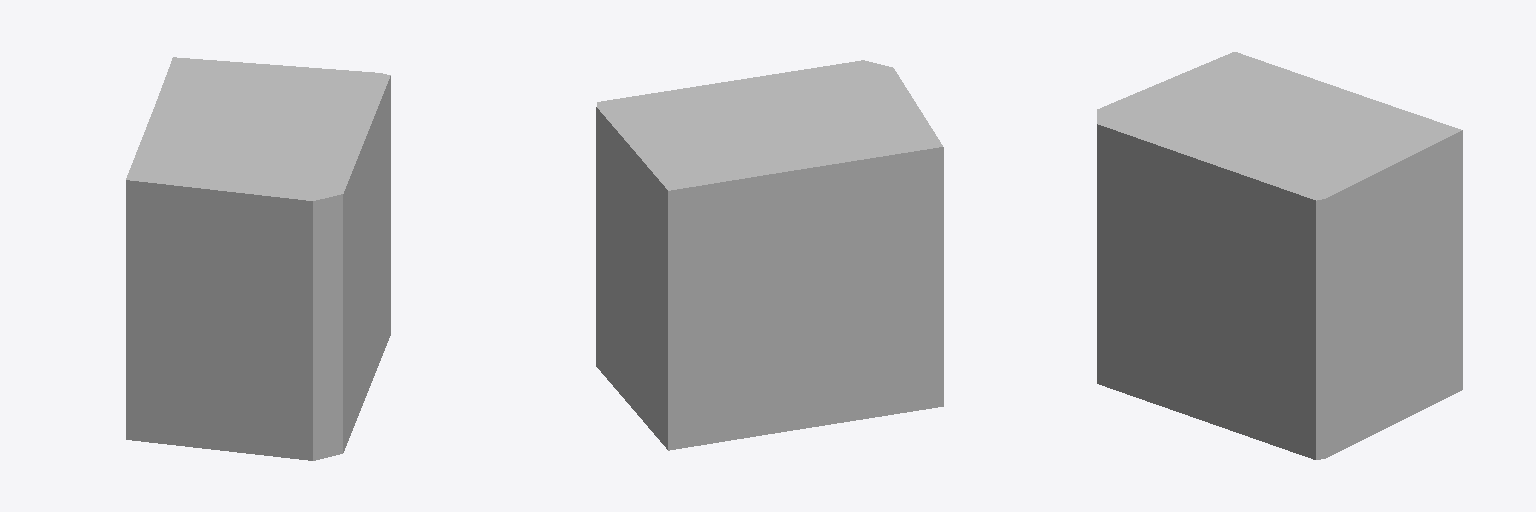
The model's file is multifamily_8.obj.
The picture shows the model from 3 angles: view 1: azimuth 30°, elevation 25°; view 2: azimuth 150°, elevation 25°; view 3: azimuth 270°, elevation 25°; orthographic projection.
Parts seen in each view (by area): view 1: object_4, object_1, object_6, object_5; view 2: object_3, object_1, object_9, object_8; view 3: object_6, object_8, object_1, object_7.
Part boxes in pixels (bbox=[...]): object_4: bbox=[126, 180, 312, 460]; object_1: bbox=[126, 57, 390, 200]; object_6: bbox=[343, 76, 390, 452]; object_5: bbox=[313, 194, 342, 460]; object_3: bbox=[766, 147, 943, 434]; object_1: bbox=[597, 60, 942, 190]; object_9: bbox=[668, 175, 765, 450]; object_8: bbox=[596, 107, 667, 449]; object_6: bbox=[1097, 124, 1315, 459]; object_8: bbox=[1326, 130, 1462, 457]; object_1: bbox=[1097, 52, 1461, 200]; object_7: bbox=[1316, 199, 1325, 459].
Size of the model in its own units: 88.69 by 72 by 91.75.